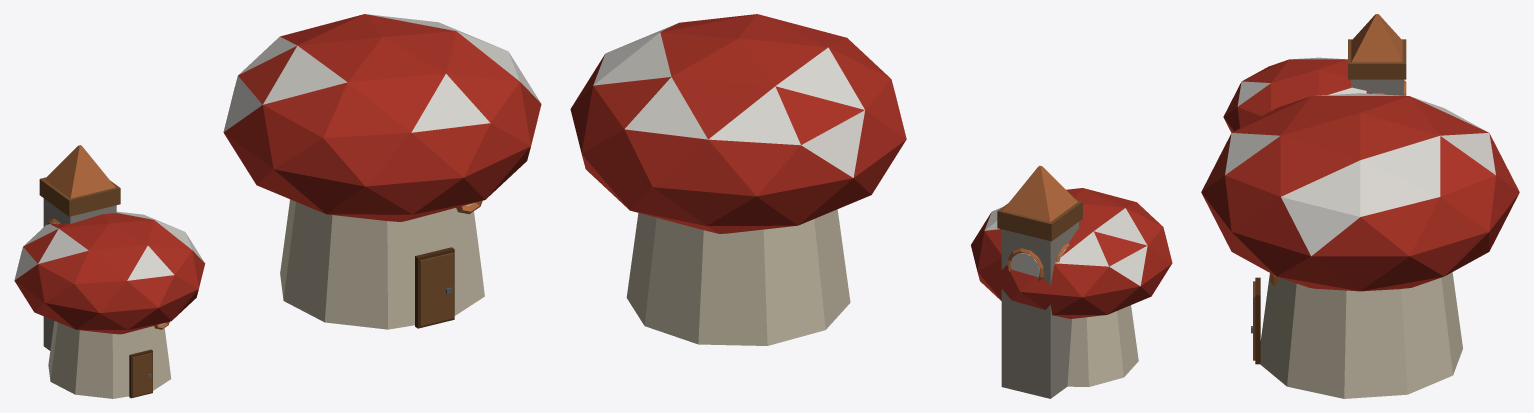
Rendered from gnome_court.glb.
3 views of the same model, side by side, from view 1: azimuth 30°, elevation 25°; view 2: azimuth 150°, elevation 25°; view 3: azimuth 270°, elevation 25° (orthographic). The views are drawn at different scales.
Visible parts, largest first — view 1: gnome_court; view 2: gnome_court; view 3: gnome_court.
Boxes of the visible parts, x1,y1,x2,y2 form: gnome_court: (14,14,541,398); gnome_court: (570,14,1172,398); gnome_court: (1201,14,1519,398).
Bounding box in the file's own units: 2.49 × 1.16 × 1.38.
